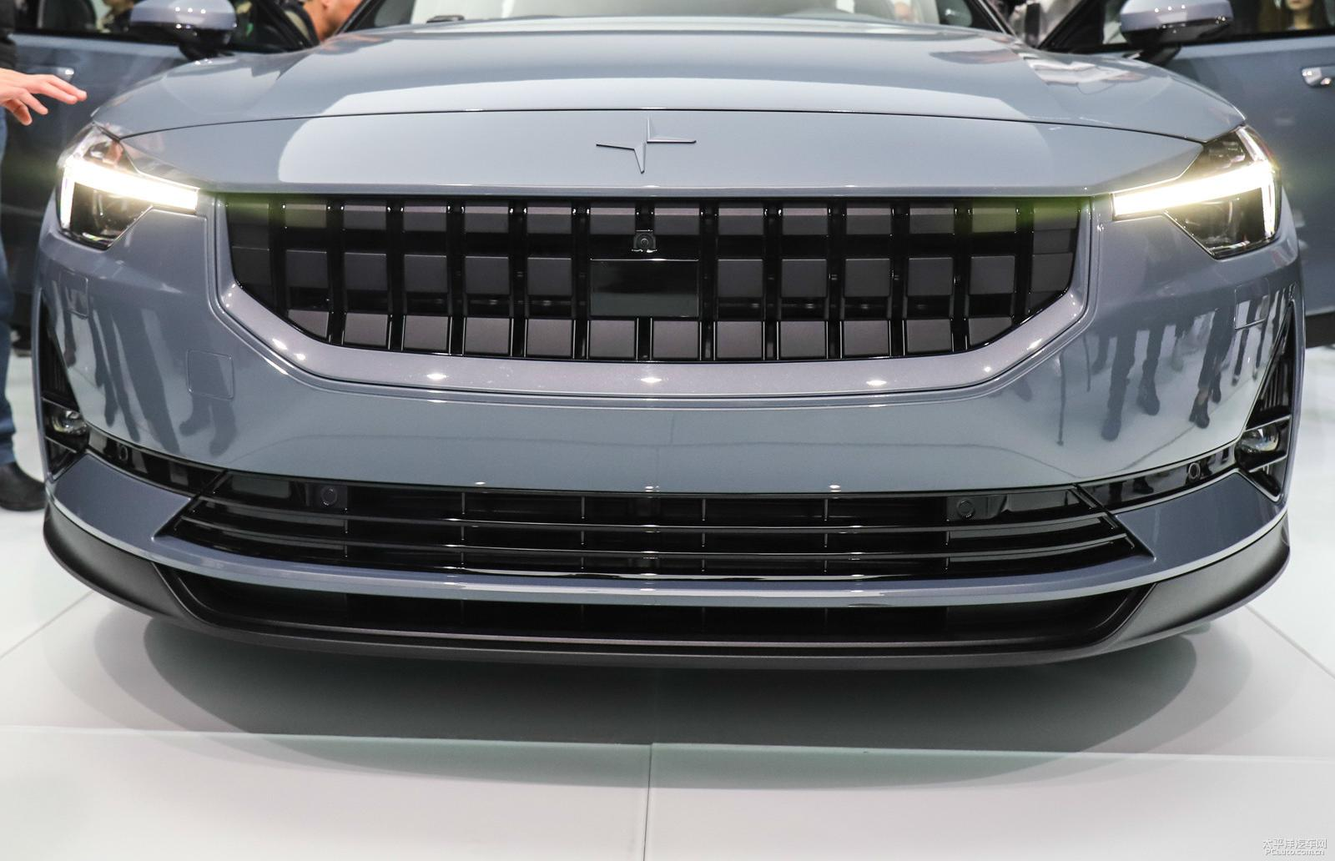Polestar: (596, 115, 696, 173)
